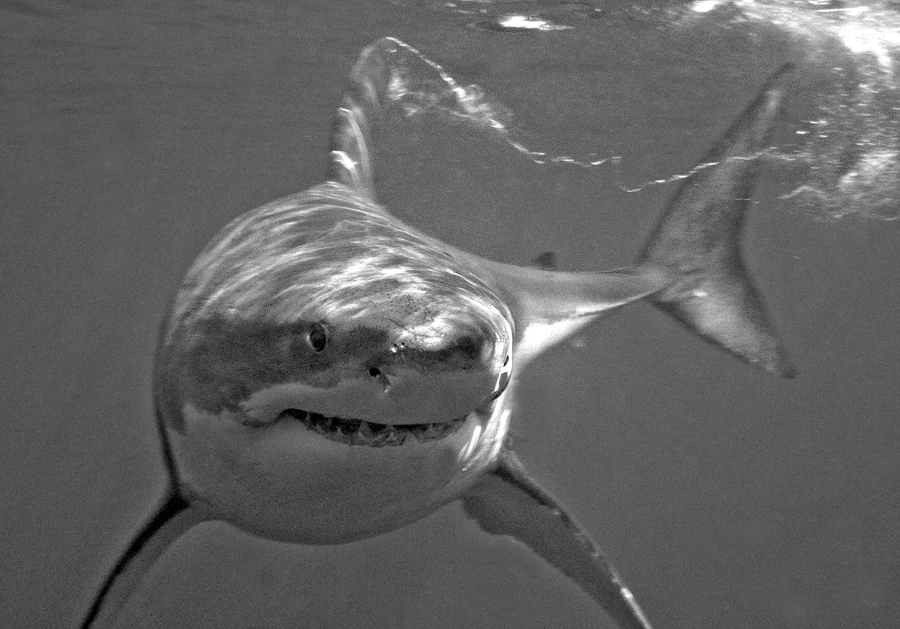Carcharodon_carcharias: (71, 27, 803, 628)
